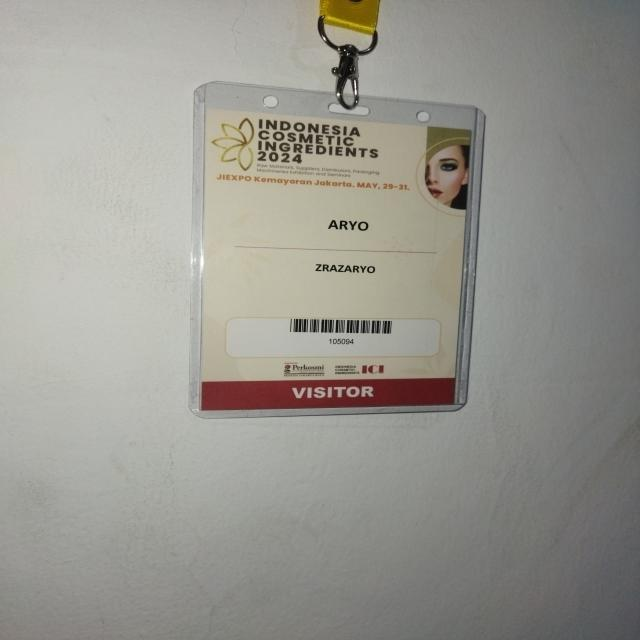ID_card: (188, 80, 485, 418)
